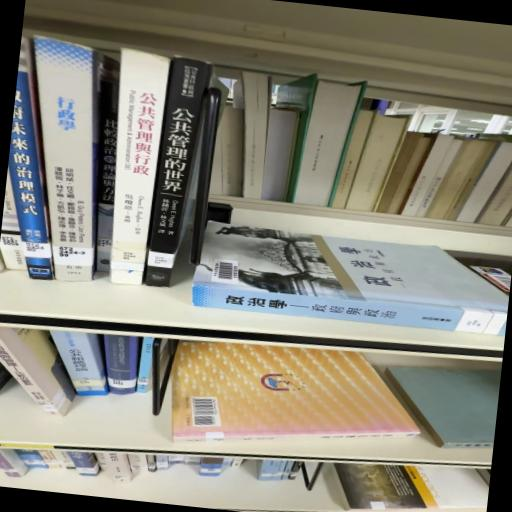flat: (193, 222, 510, 336), (173, 342, 421, 442)
